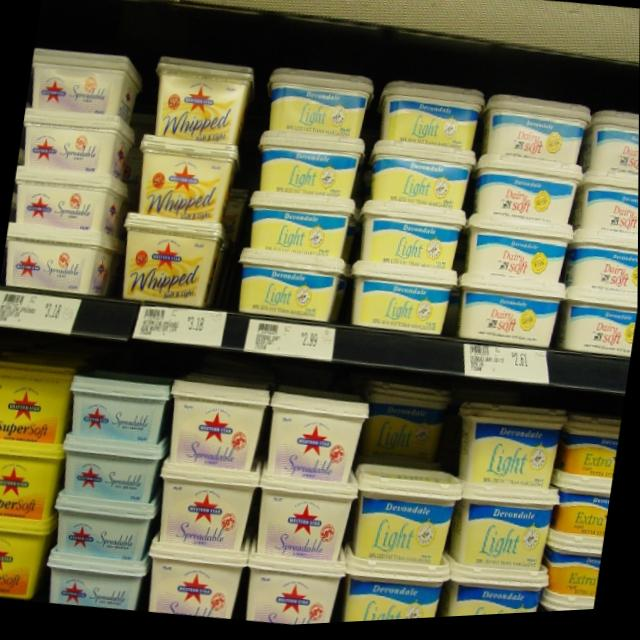q289: (165, 375, 273, 485), (263, 398, 368, 491), (151, 472, 260, 559), (139, 543, 249, 626), (258, 490, 355, 570), (244, 561, 343, 630)
